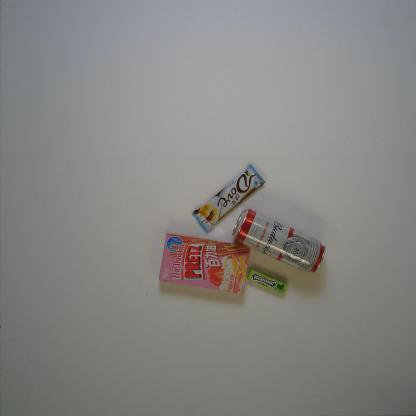Alcohol: (231, 209, 327, 274)
Chocolate: (191, 165, 267, 233)
Dessert: (159, 233, 251, 295)
Gum: (247, 268, 288, 295)
